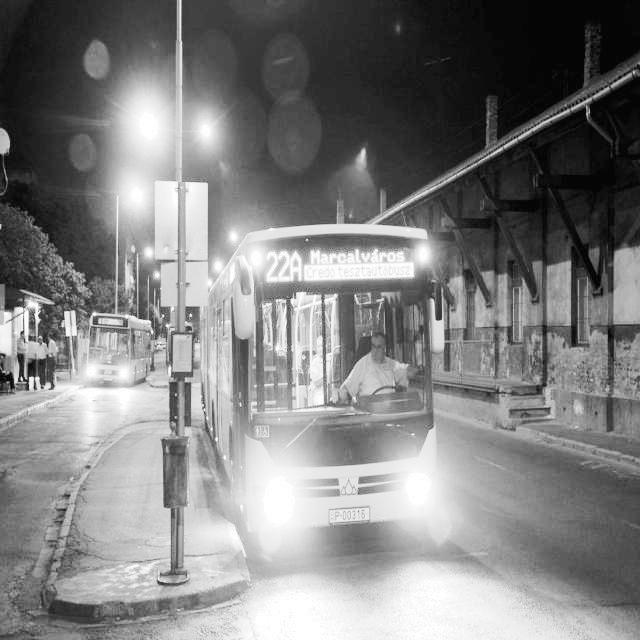Bus: (182, 201, 449, 570), (84, 294, 156, 409)
